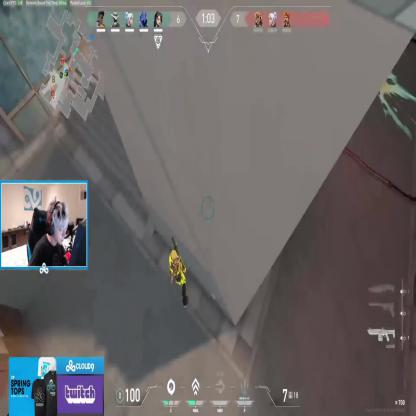enemy: (166, 247, 189, 311)
enemy_head: (171, 249, 178, 263)
